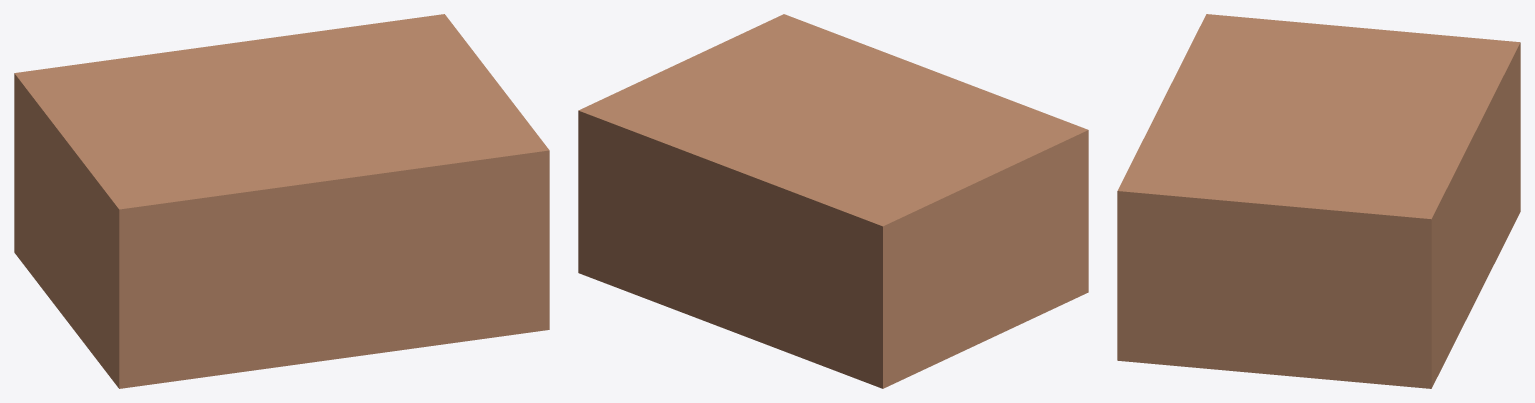
The model's file is Forge_Main_Hall.glb.
3 views of the same model, side by side, from view 1: azimuth 30°, elevation 25°; view 2: azimuth 150°, elevation 25°; view 3: azimuth 270°, elevation 25° (orthographic). The views are drawn at different scales.
Parts seen in each view (by area): view 1: Forge_Main_Hall.001; view 2: Forge_Main_Hall.001; view 3: Forge_Main_Hall.001.
Boxes of the visible parts, x1,y1,x2,y2 form: Forge_Main_Hall.001: (14,14,549,388); Forge_Main_Hall.001: (578,14,1088,388); Forge_Main_Hall.001: (1117,14,1520,388).
Bounding box in the file's own units: 6.35 × 2.45 × 5.27.
